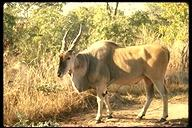antelope: (56, 22, 171, 125)
bush: (4, 50, 56, 122)
